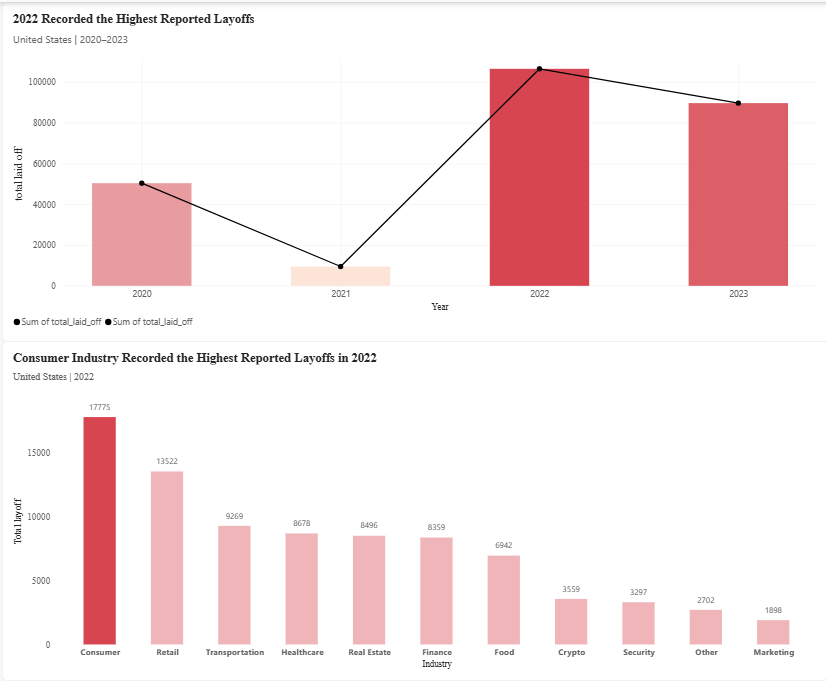

This screenshot's page, from the dashboard's own definition file:
{"tool":"powerbi","page":{"name":"Page 2","canvas":[1920,1080],"ordinal":1},"visuals":[{"type":"lineClusteredColumnComboChart","title":"Consumer Industry Recorded the Highest Reported Layoffs in 2022","fields":{"Category":["cleaned_layoffs_dataset.industry"],"Y":["Sum(cleaned_layoffs_dataset.total_laid_off)"]},"box":[54.9,539.2,1314,540],"z":0},{"type":"lineClusteredColumnComboChart","title":"2022 Recorded the Highest Reported Layoffs","fields":{"Category":["cleaned_layoffs_dataset.date.Variation.Date Hierarchy.Year"],"Y":["Sum(cleaned_layoffs_dataset.total_laid_off)"],"Y2":["Sum(cleaned_layoffs_dataset.total_laid_off)"]},"box":[55,0,1314.3,540.5],"z":1000}]}

Visuals, with their boxes on the page's 1920x1080 design canvas (x1, y1, x2, y2). These are canvas units, not pixel positions in the 826x681 screenshot, which may show the page scaled, cropped or inside an application window:
"Consumer Industry Recorded the Highest Reported Layoffs in 2022" lineClusteredColumnComboChart: [left=55, top=539, right=1369, bottom=1079]
"2022 Recorded the Highest Reported Layoffs" lineClusteredColumnComboChart: [left=55, top=0, right=1369, bottom=540]
